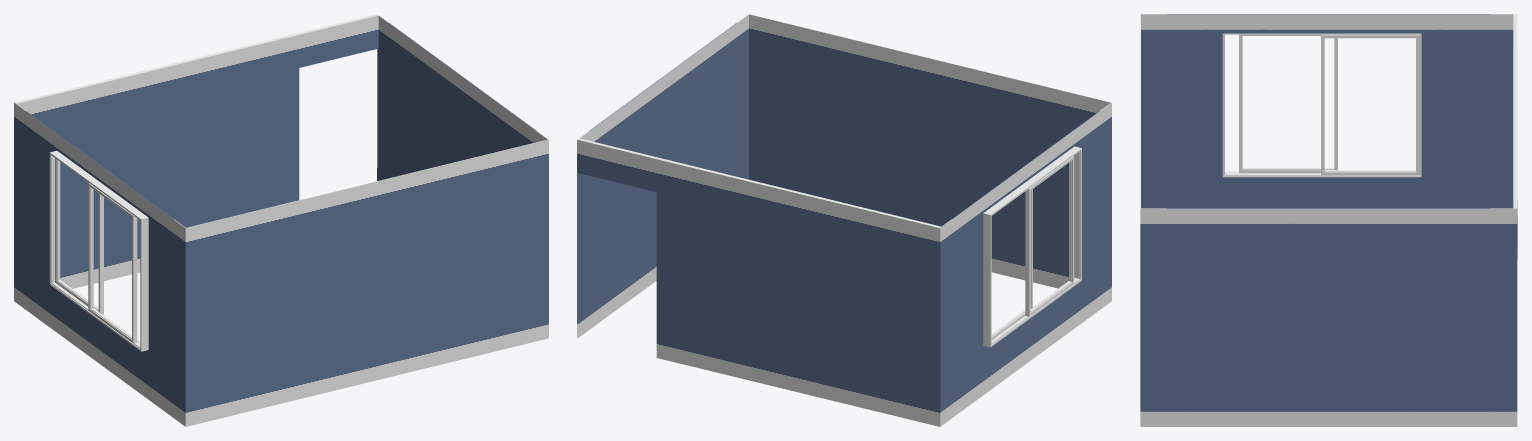
The model's file is Wall_Md.FBX.
The picture shows the model from 3 angles, left to right: view 1: azimuth 30°, elevation 25°; view 2: azimuth 150°, elevation 25°; view 3: azimuth 270°, elevation 25°; orthographic projection. The views are drawn at different scales.
Visible parts, largest first — view 1: Wall_Md, Obj_Window_Edge, Obj_Window_Edge_02; view 2: Wall_Md, Obj_Window_Edge, Obj_Window_Edge_02; view 3: Wall_Md, Obj_Window_Edge, Obj_Window_Edge_02.
Part boxes in pixels (x1,y1,x2,y2): Wall_Md: (14,14,548,426); Obj_Window_Edge: (49,150,148,351); Obj_Window_Edge_02: (88,183,137,343); Wall_Md: (577,14,1111,426); Obj_Window_Edge: (983,146,1081,347); Obj_Window_Edge_02: (1025,156,1074,316); Wall_Md: (1140,14,1517,426); Obj_Window_Edge: (1222,33,1421,177); Obj_Window_Edge_02: (1239,34,1337,173).
Bounding box in the file's own units: 184 × 94.49 × 148.
